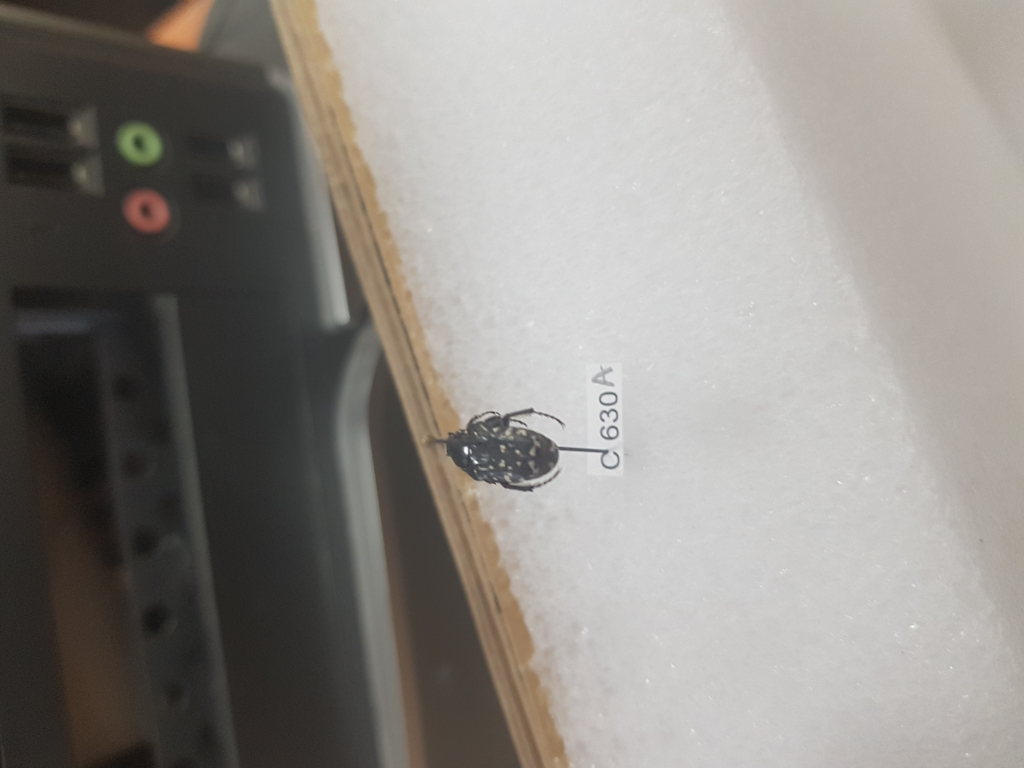Oxythyrea_albopicta: (439, 410, 567, 501)
